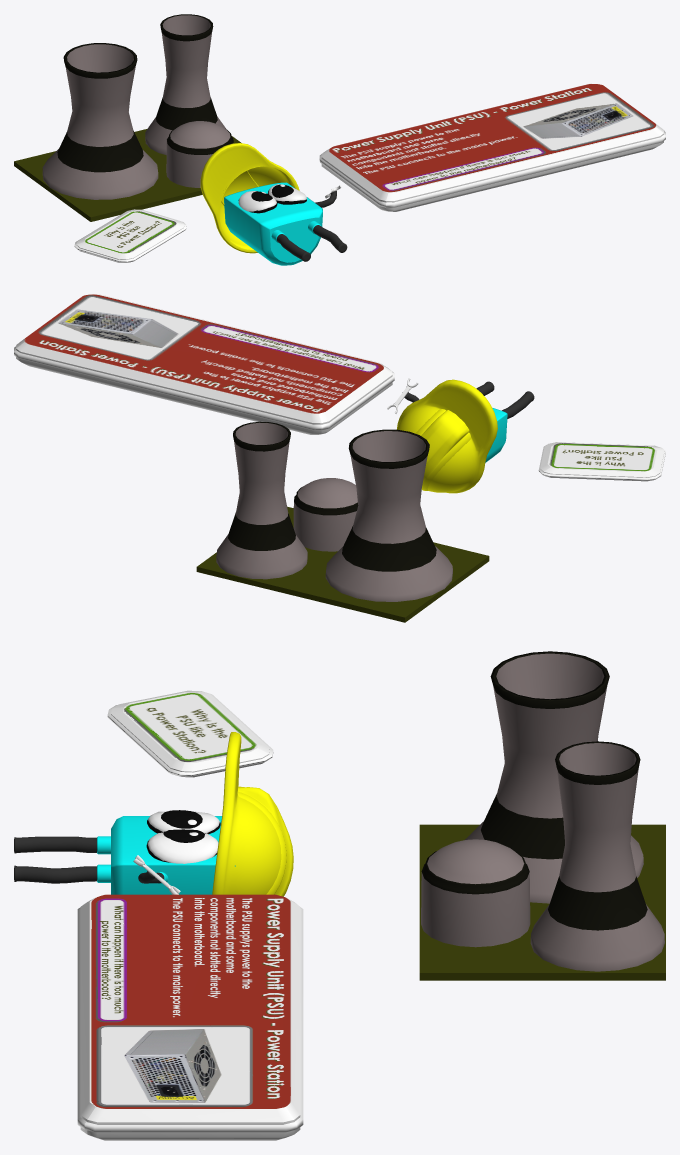
The model's file is combined_psu.obj.
3 renders of one model, top to bottom at view 1: azimuth 30°, elevation 25°; view 2: azimuth 150°, elevation 25°; view 3: azimuth 270°, elevation 25°, orthographic. The views are drawn at different scales.
Parts seen in each view (by area): view 1: mod_powerstation, PSU1, char_7, PSU2; view 2: mod_powerstation, PSU1, char_7, PSU2; view 3: mod_powerstation, PSU1, char_7, PSU2.
Part boxes in pixels (x1=…): mod_powerstation: x1=14, y1=14, x2=241, y2=221; PSU1: x1=319, y1=83, x2=665, y2=211; char_7: x1=200, y1=143, x2=347, y2=265; PSU2: x1=74, y1=209, x2=186, y2=262; mod_powerstation: x1=196, y1=421, x2=489, y2=622; PSU1: x1=14, y1=294, x2=394, y2=434; char_7: x1=387, y1=378, x2=534, y2=493; PSU2: x1=538, y1=442, x2=665, y2=481; mod_powerstation: x1=419, y1=651, x2=665, y2=980; PSU1: x1=77, y1=894, x2=303, y2=1140; char_7: x1=14, y1=732, x2=293, y2=896; PSU2: x1=107, y1=690, x2=273, y2=777.
Bounding box in the file's own units: 15.42 × 3.44 × 9.71.
Materials: 11 (2 with a texture image).
